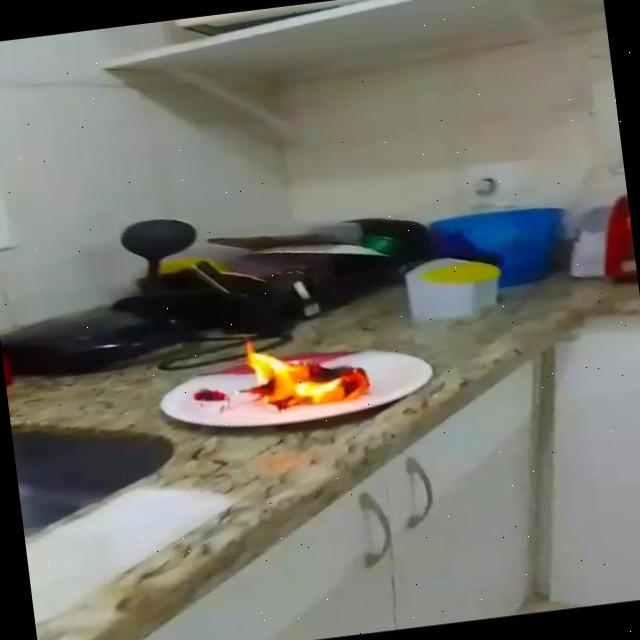fire: (238, 324, 376, 420)
